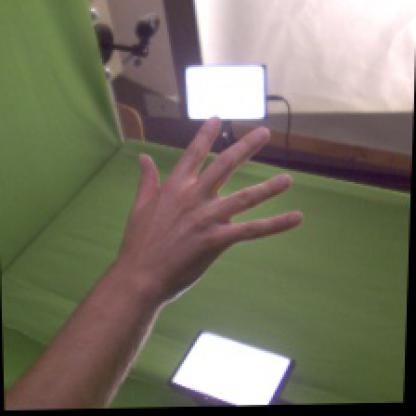Hand: (117, 115, 304, 286)
